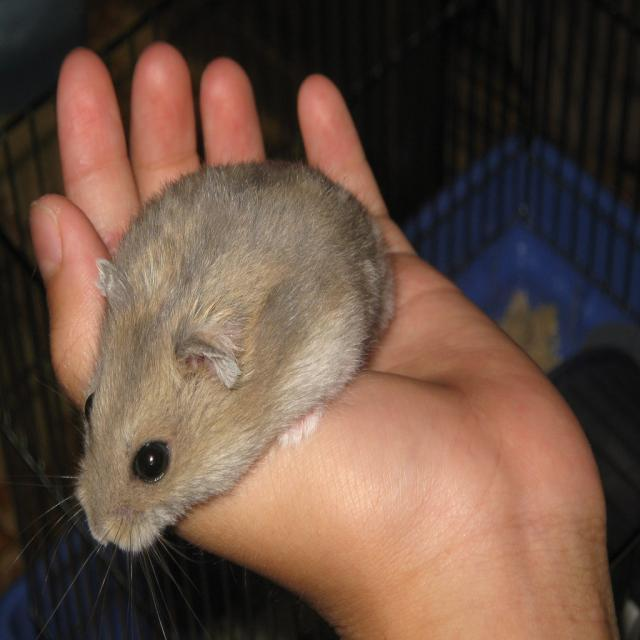rat: (72, 157, 398, 552)
